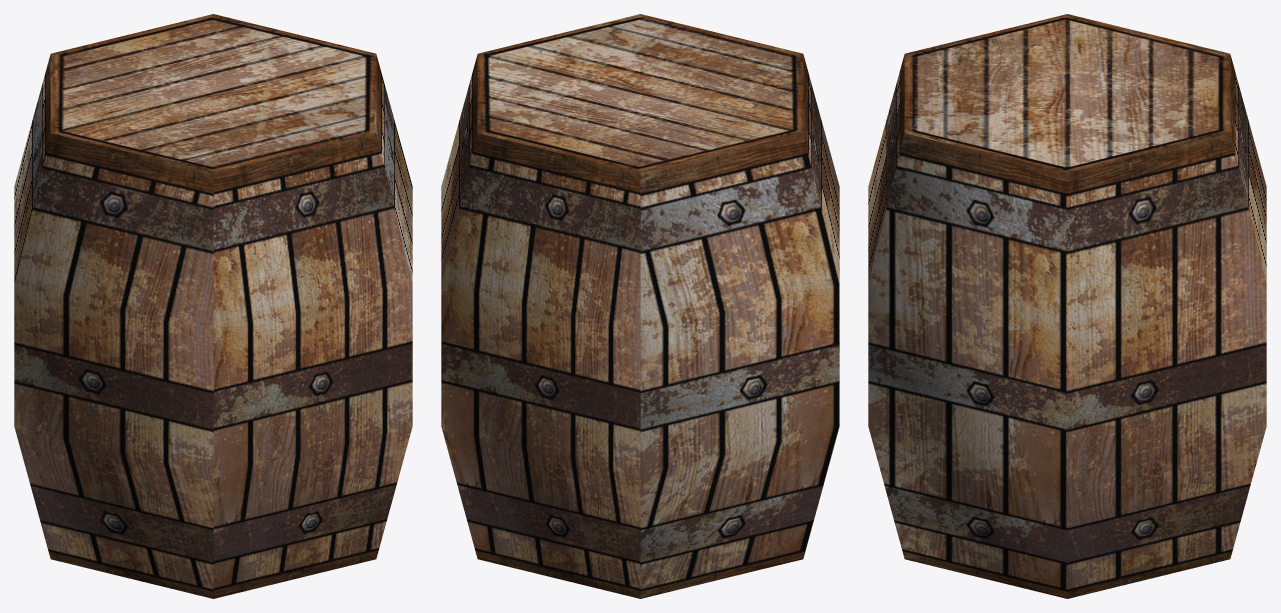
File: barrel01.FBX
The picture shows the model from 3 angles, left to right: view 1: azimuth 30°, elevation 25°; view 2: azimuth 150°, elevation 25°; view 3: azimuth 270°, elevation 25°; orthographic projection.
Visible parts, largest first — view 1: Cylinder001; view 2: Cylinder001; view 3: Cylinder001.
Part boxes in pixels (x1,y1,x2,y2): Cylinder001: [14, 14, 412, 598]; Cylinder001: [441, 14, 839, 598]; Cylinder001: [868, 14, 1266, 598].
Size of the model in its own units: 48.94 by 50 by 42.38.
